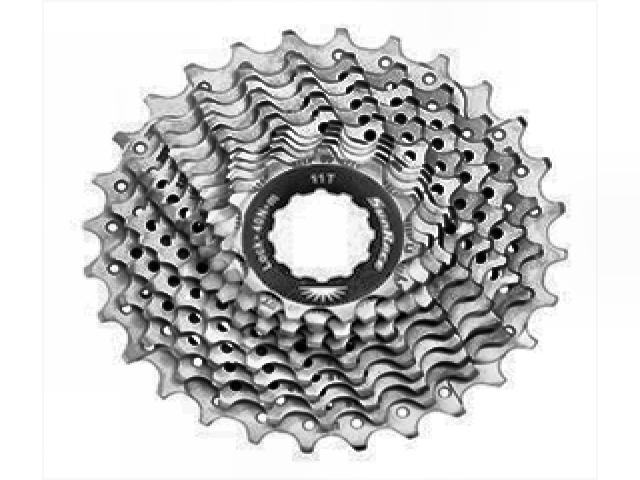cassette: (84, 22, 570, 456)
